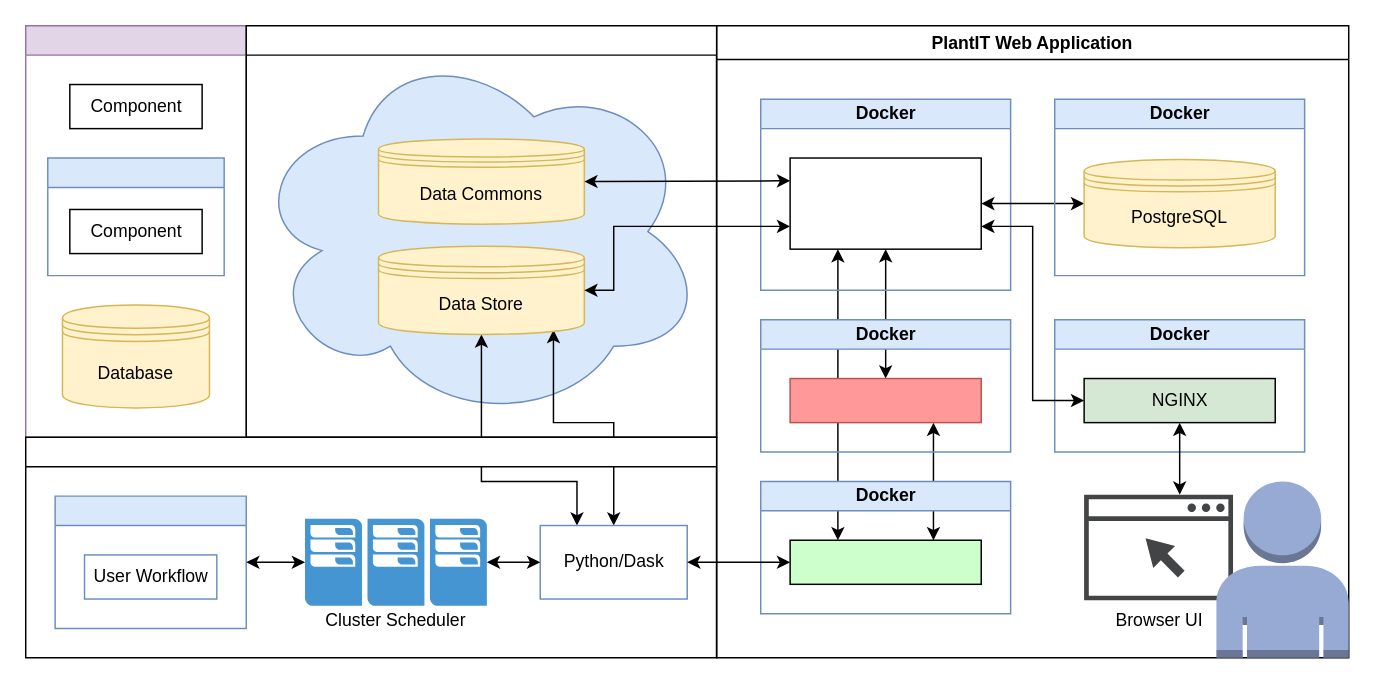
The diagram is 1374 pixels wide and 684 high, and some of its shapes have lost their labels. Here are the shapes that lost their labels. From the top down, the box of each, then its label:
(46, 157, 224, 276): Container
(789, 157, 981, 249): Django (+ Channels)
(24, 24, 246, 437): Legend
(245, 24, 717, 437): CyVerse Cloud
(789, 377, 981, 423): Redis
(54, 495, 246, 628): Singularity
(24, 436, 717, 658): HPC/HTC
(789, 539, 981, 584): Celery
